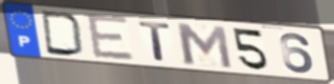5: (230, 26, 271, 72)
6: (279, 31, 316, 74)
D: (39, 9, 88, 59)
E: (84, 12, 137, 62)
M: (173, 21, 235, 70)
T: (136, 20, 174, 63)
